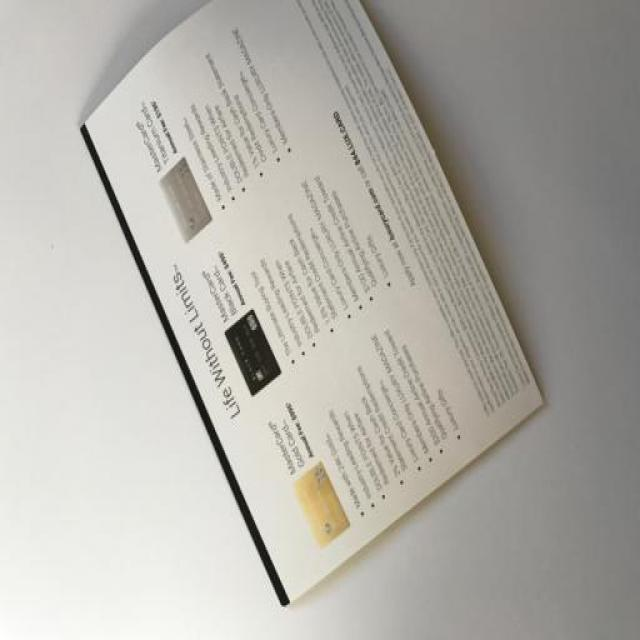paper: (70, 27, 571, 577)
